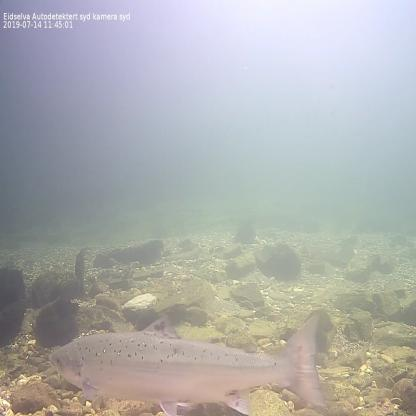salmon: (45, 312, 329, 416)
